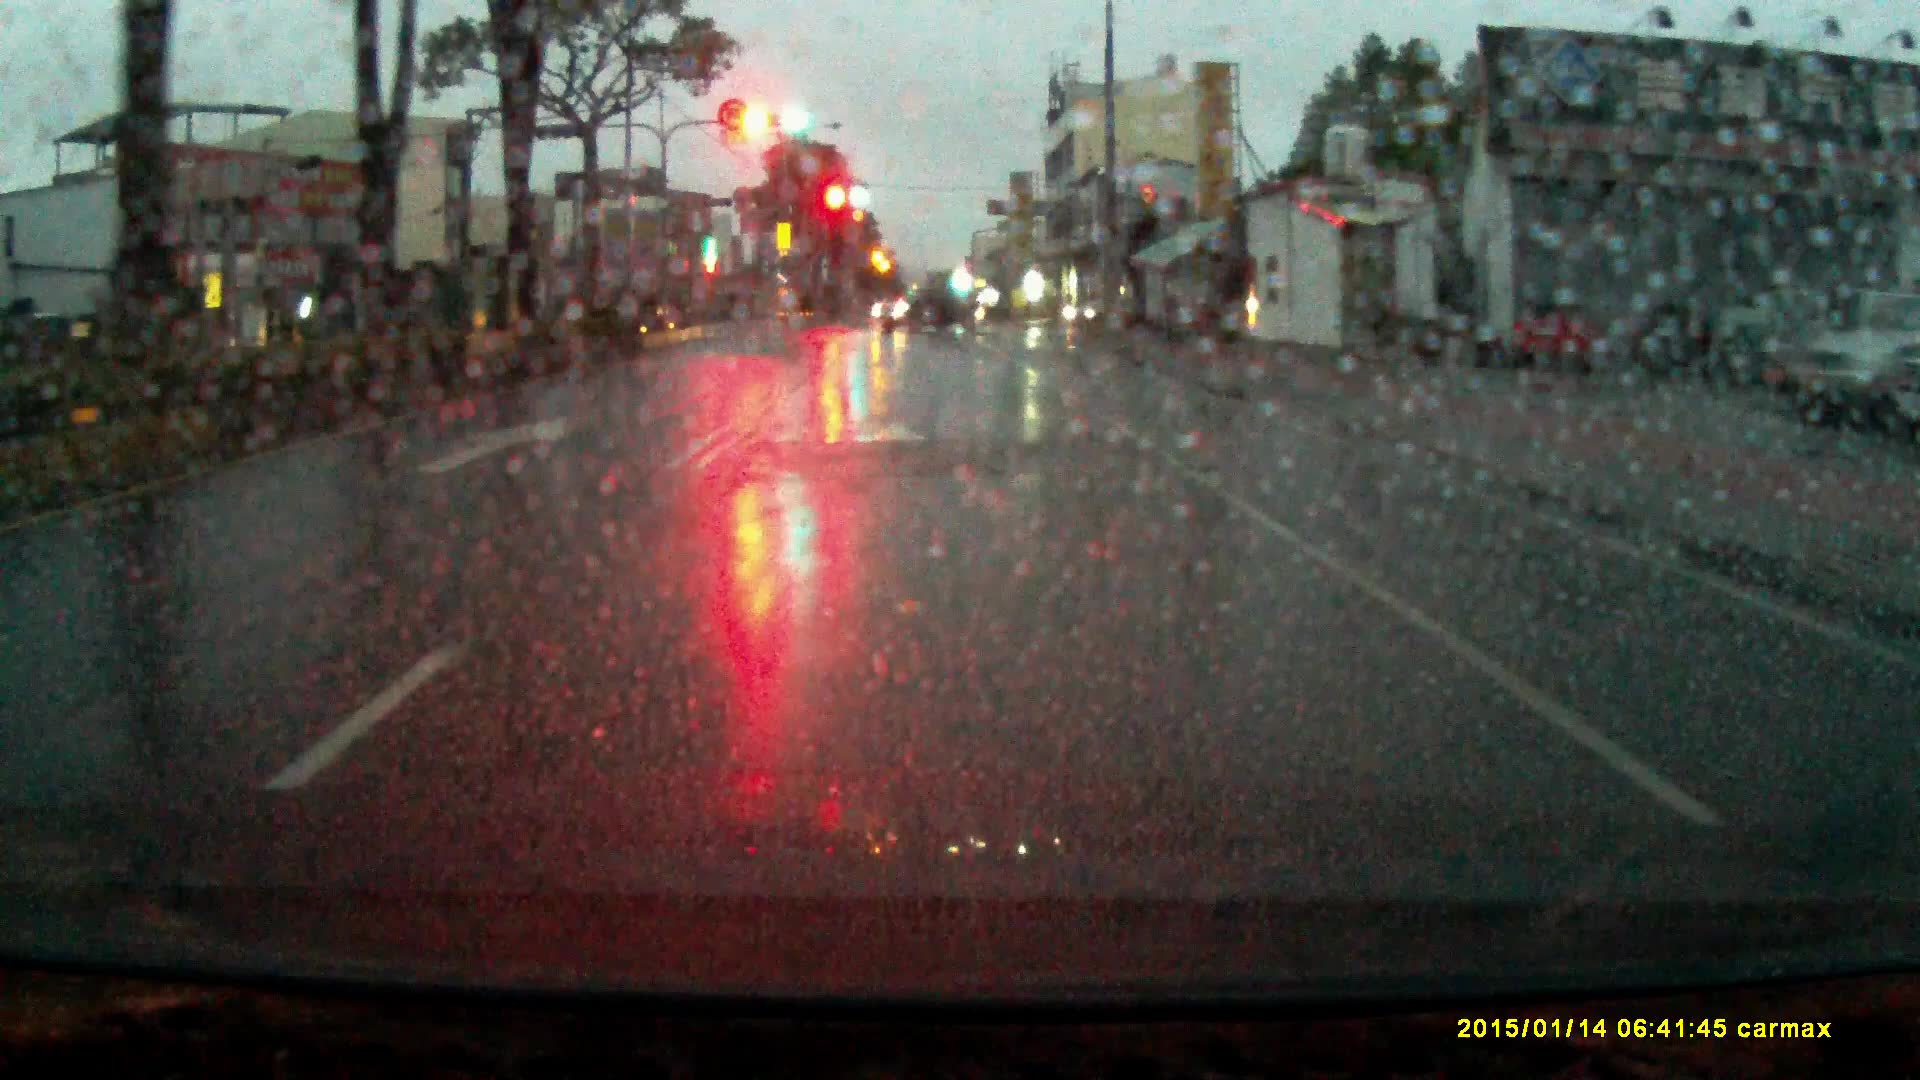vehicle: (873, 280, 978, 342)
